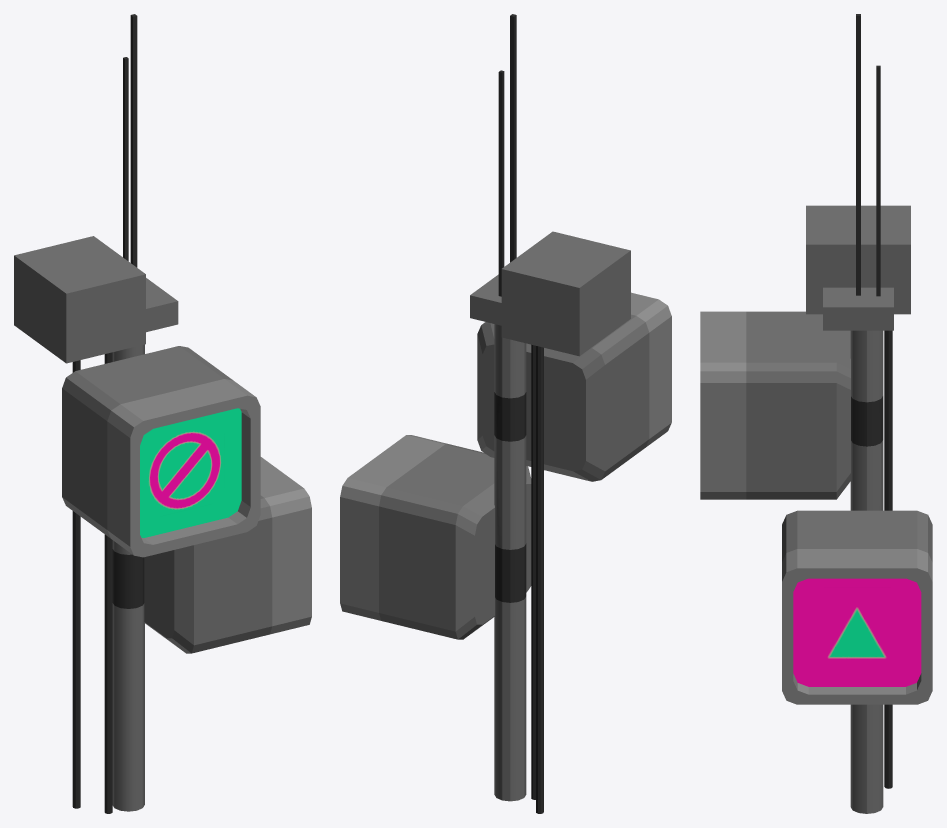
3 renders of one model, left to right at view 1: azimuth 30°, elevation 25°; view 2: azimuth 150°, elevation 25°; view 3: azimuth 270°, elevation 25°, orthographic. The views are drawn at different scales.
Visible parts, largest first — view 1: TV_3; view 2: TV_3; view 3: TV_3.
Boxes of the visible parts, bbox=[...] form: TV_3: bbox=[14, 14, 311, 813]; TV_3: bbox=[340, 14, 671, 813]; TV_3: bbox=[700, 14, 932, 813].
Bounding box in the file's own units: 0.7336 × 2.38 × 0.6315.
4 materials, 1 textured.
